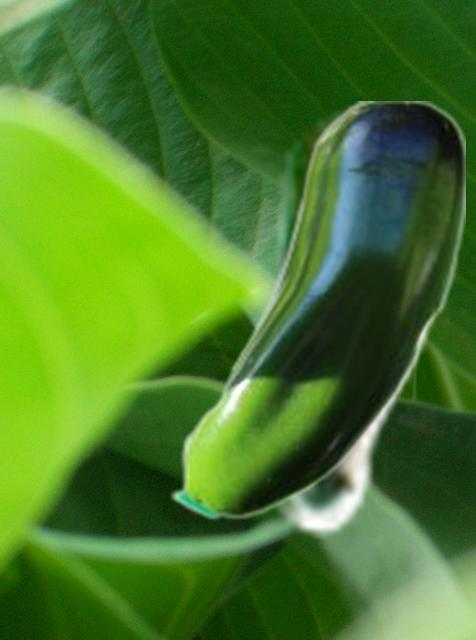green_chili: (168, 101, 464, 521), (255, 104, 462, 537)
